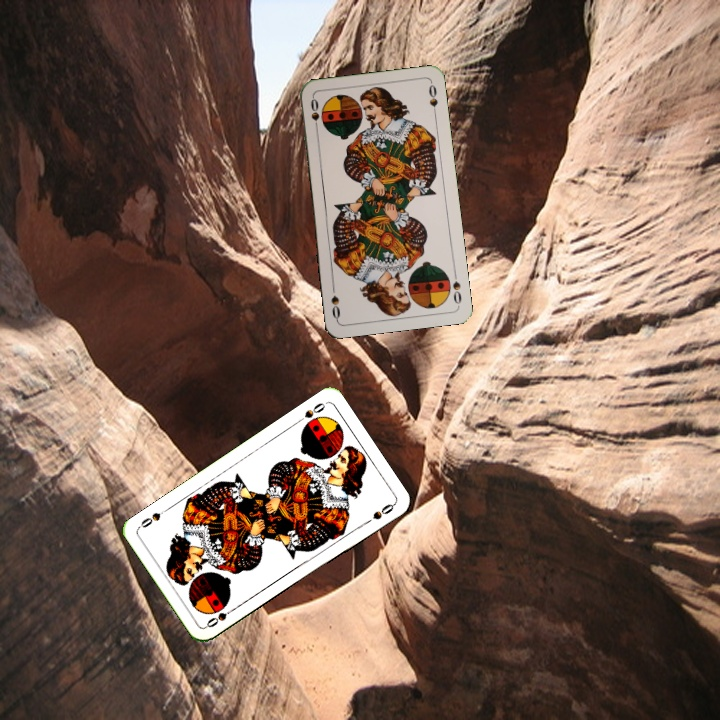SO: (292, 398, 329, 426), (202, 603, 239, 630), (306, 94, 322, 135), (448, 267, 464, 306)
